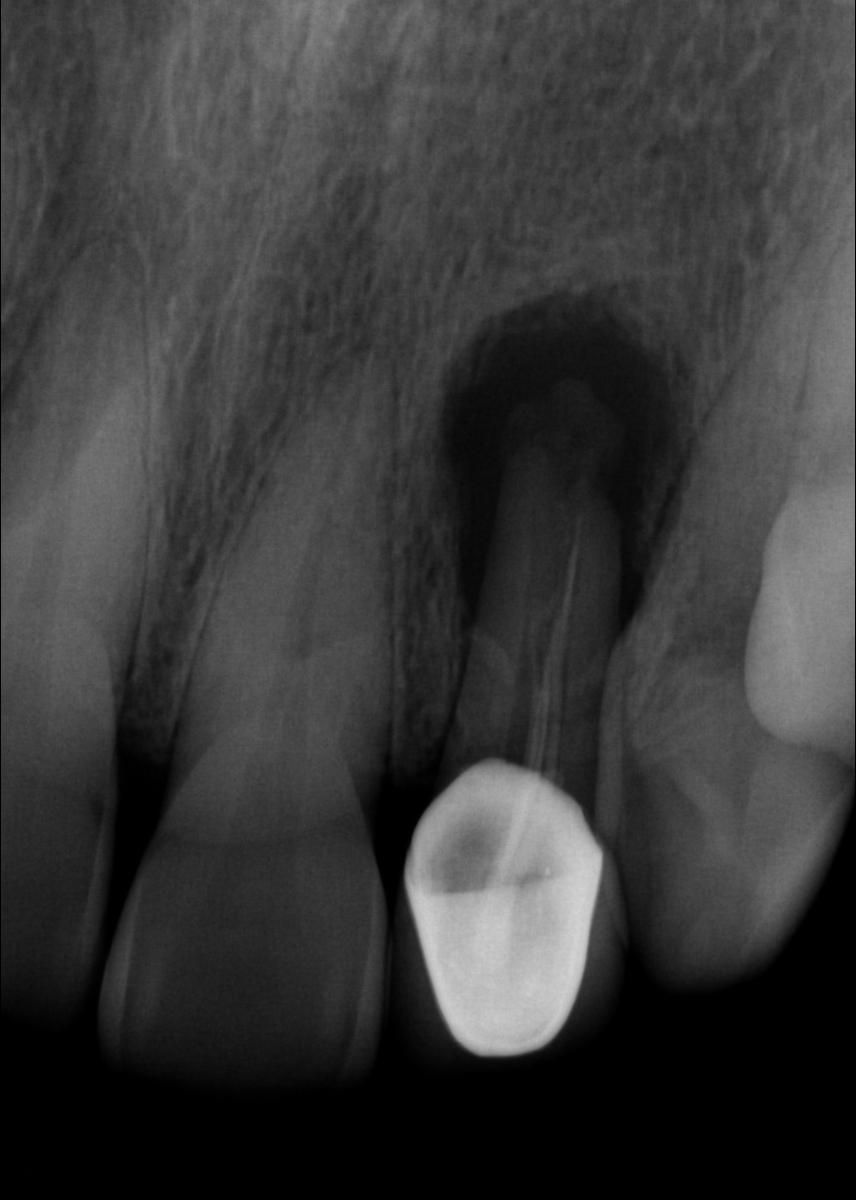Furcation Involvement: (438, 290, 688, 629)
